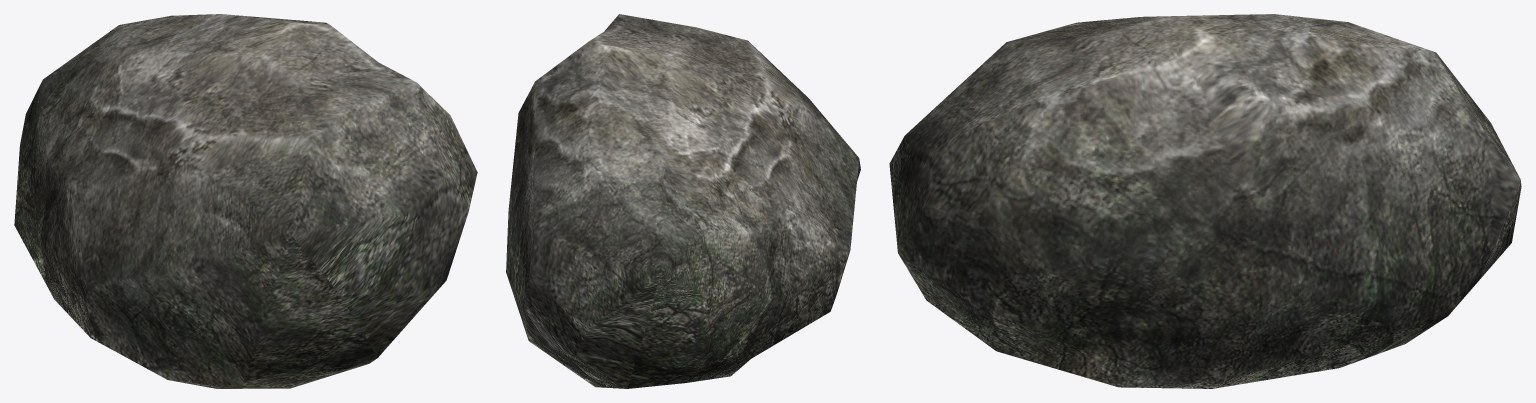
The model's file is Stone03.fbx.
The picture shows the model from 3 angles, left to right: view 1: azimuth 30°, elevation 25°; view 2: azimuth 150°, elevation 25°; view 3: azimuth 270°, elevation 25°; orthographic projection. The views are drawn at different scales.
Visible parts, largest first — view 1: Stone03; view 2: Stone03; view 3: Stone03.
Part boxes in pixels (x1,y1,x2,y2): Stone03: (14,14,477,388); Stone03: (506,14,860,388); Stone03: (889,14,1521,388).
Size of the model in its own units: 1.06 by 0.9087 by 1.4.
